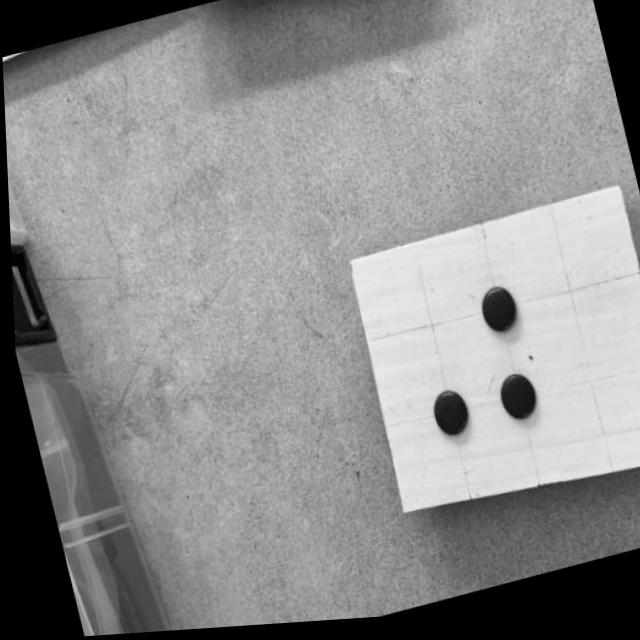braiile: (350, 207, 640, 511)
